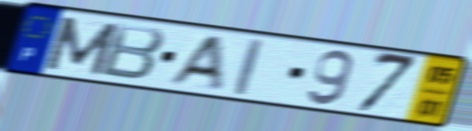7: (352, 49, 421, 115)
9: (305, 48, 355, 106)
A: (162, 34, 227, 91)
B: (97, 21, 169, 83)
I: (232, 36, 266, 98)
M: (41, 14, 123, 78)
